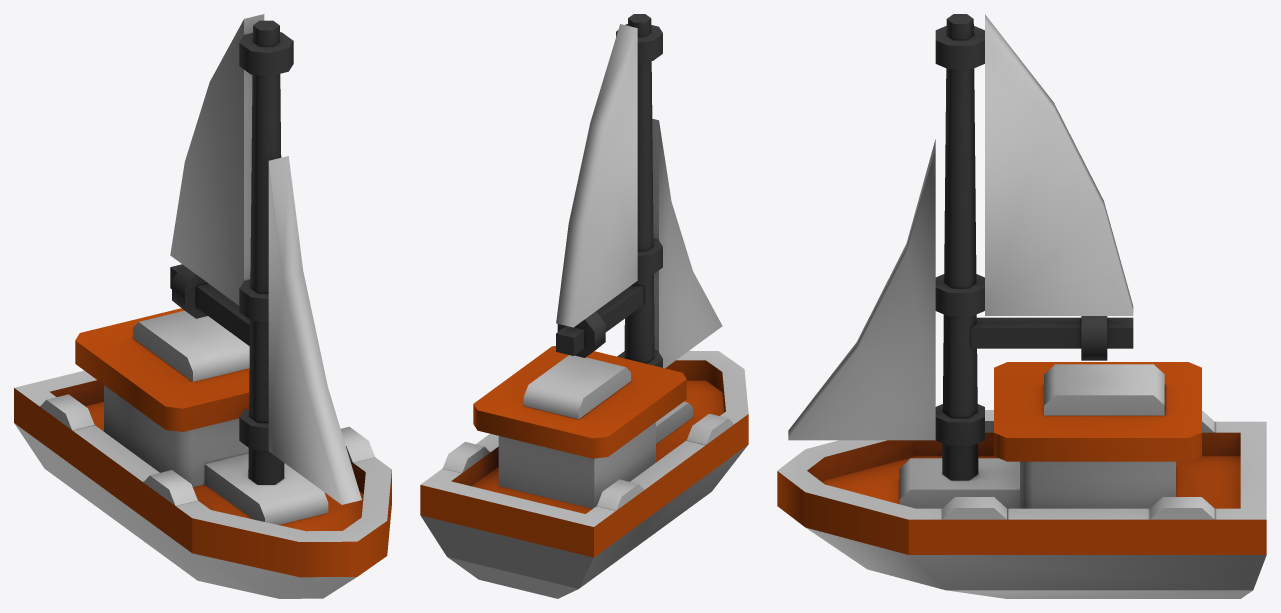
File: boat2.glb
The picture shows the model from 3 angles, left to right: view 1: azimuth 30°, elevation 25°; view 2: azimuth 150°, elevation 25°; view 3: azimuth 270°, elevation 25°; orthographic projection. The views are drawn at different scales.
Parts seen in each view (by area): view 1: boat-sail-a_Baked; view 2: boat-sail-a_Baked; view 3: boat-sail-a_Baked.
Part boxes in pixels (x1,y1,x2,y2): boat-sail-a_Baked: (14, 14, 391, 598); boat-sail-a_Baked: (420, 14, 748, 598); boat-sail-a_Baked: (777, 14, 1266, 598).
Size of the model in its own units: 1.78 by 4.74 by 3.77.
1 material, 1 textured.
